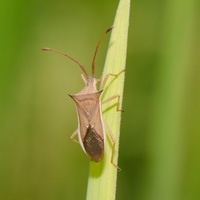insect: (41, 26, 124, 161)
